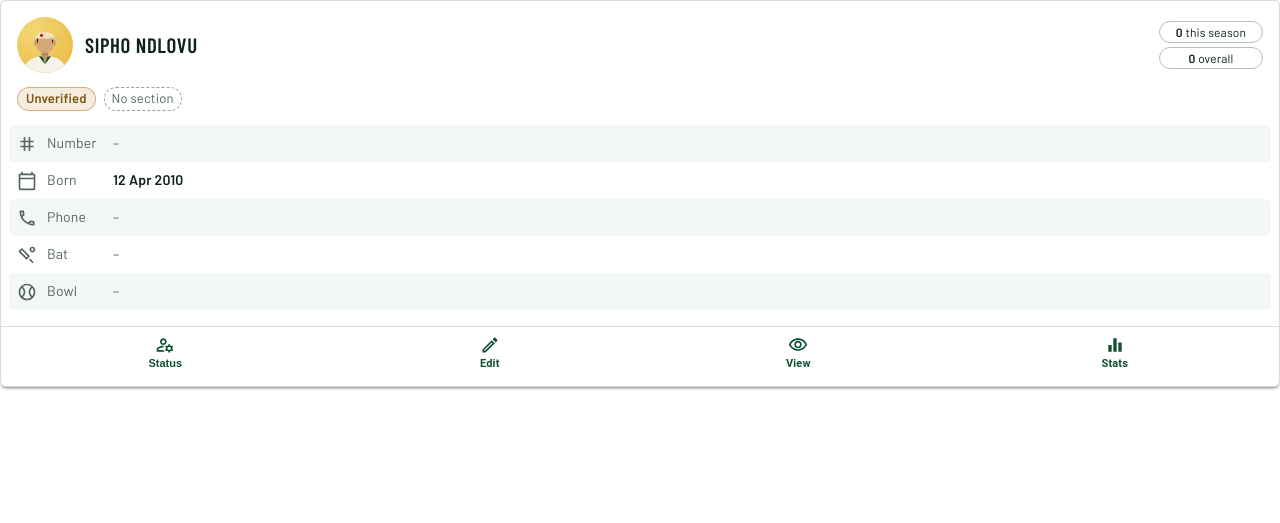
Scenario: PlayerCard › footer and the Status menu › the Status button of {"verificationStatus":"UNVERIFIED","active":true} offers ["Verify","Reject"]
This screenshot has width=1280, height=523.
Click the button with aria-label "Change status".
click(165, 353)  # box top-left (9, 327), bottom-right (322, 378)
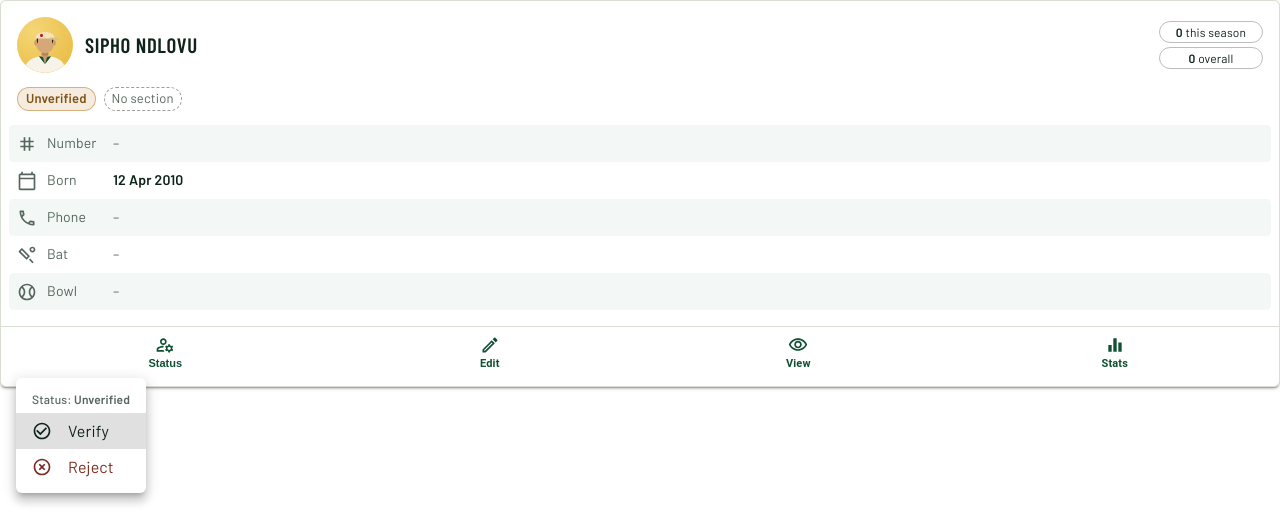
Expected: the menu items read "Verify", "Reject", in this order, top-left (16, 413), bottom-right (146, 449); top-left (32, 457), bottom-right (114, 477)
